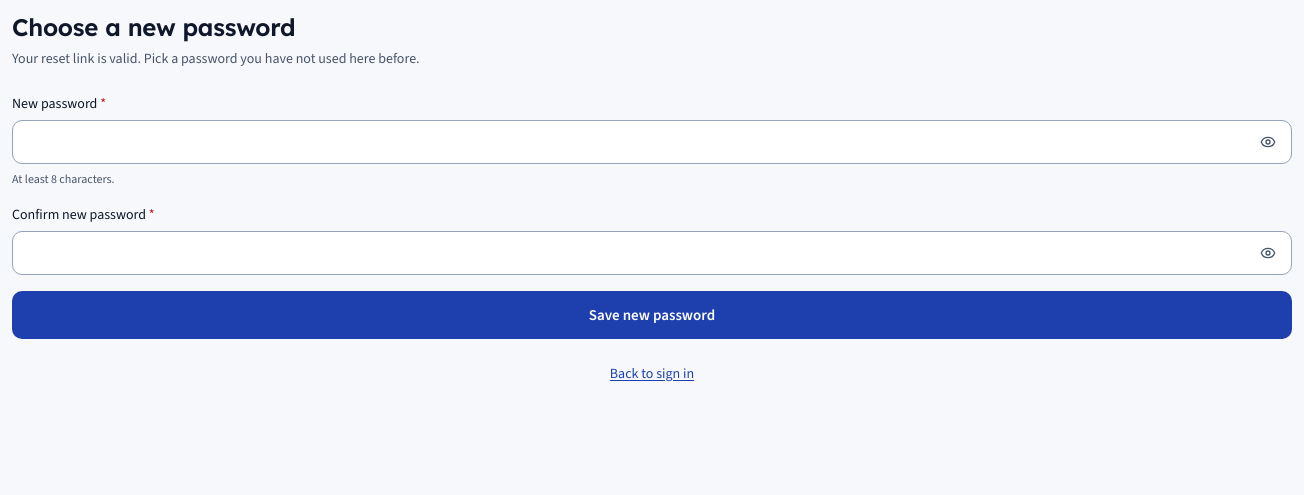
ResetPasswordPage (#2) › blocks mismatched passwords with an inline error
Step 1. Type "FreshPass123!" into the password field labelled "New password *" → (652, 142), box [12,120,1292,164]
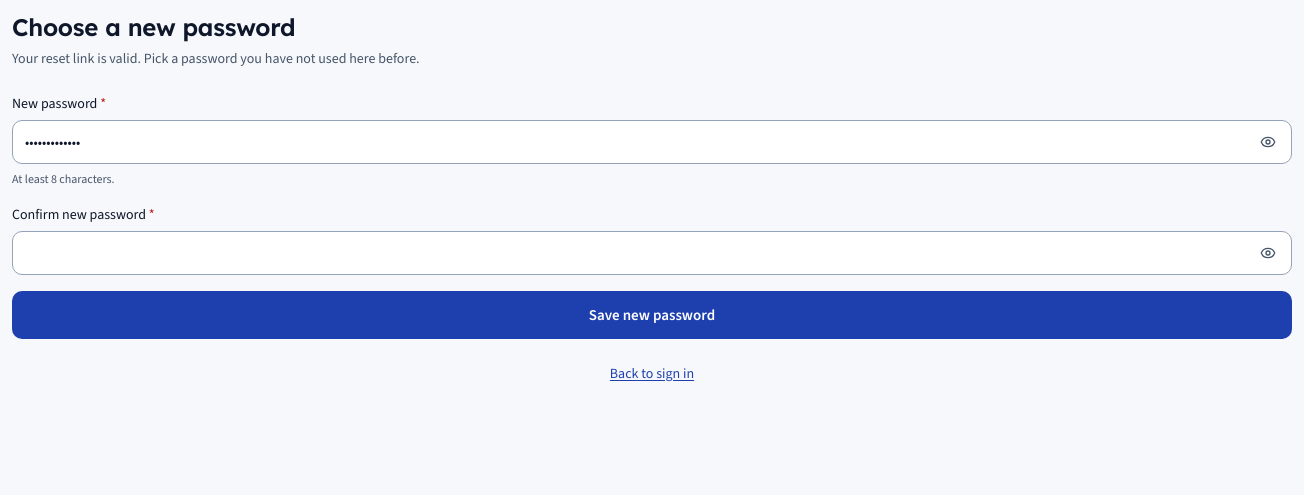
Step 2. Type "Different456!" into the password field labelled "Confirm new password *" → (652, 253), box [12,231,1292,275]
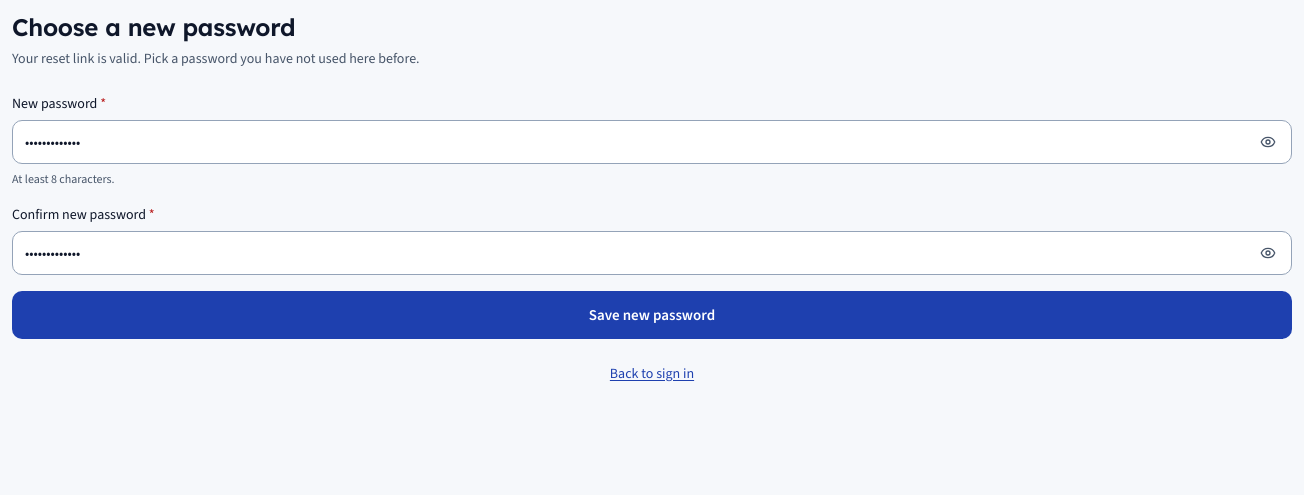
Step 3. Click the button "Save new password" → click(652, 315), box [12,291,1292,339]
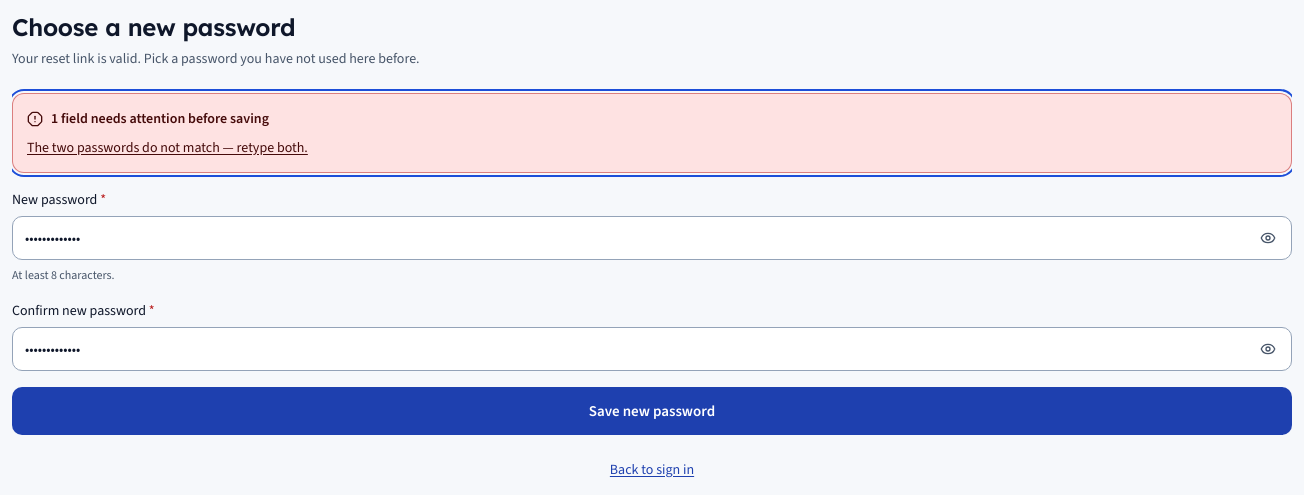
Check: the message shows "do not match", box [27,138,308,157]
